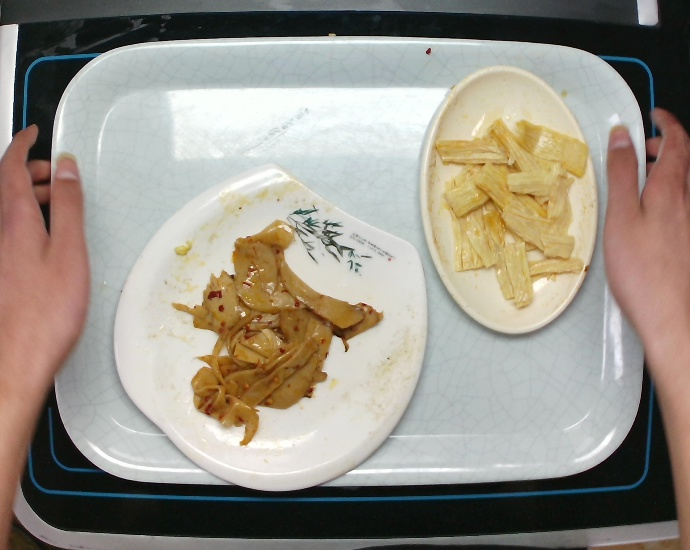JYsf-Mian_Pan: (110, 165, 439, 496)
JYsf-Tuo_Yuan_Wan: (415, 56, 601, 349)
